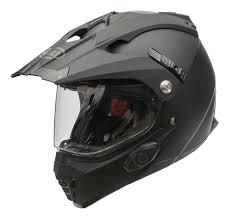helmet: (12, 12, 216, 207)
